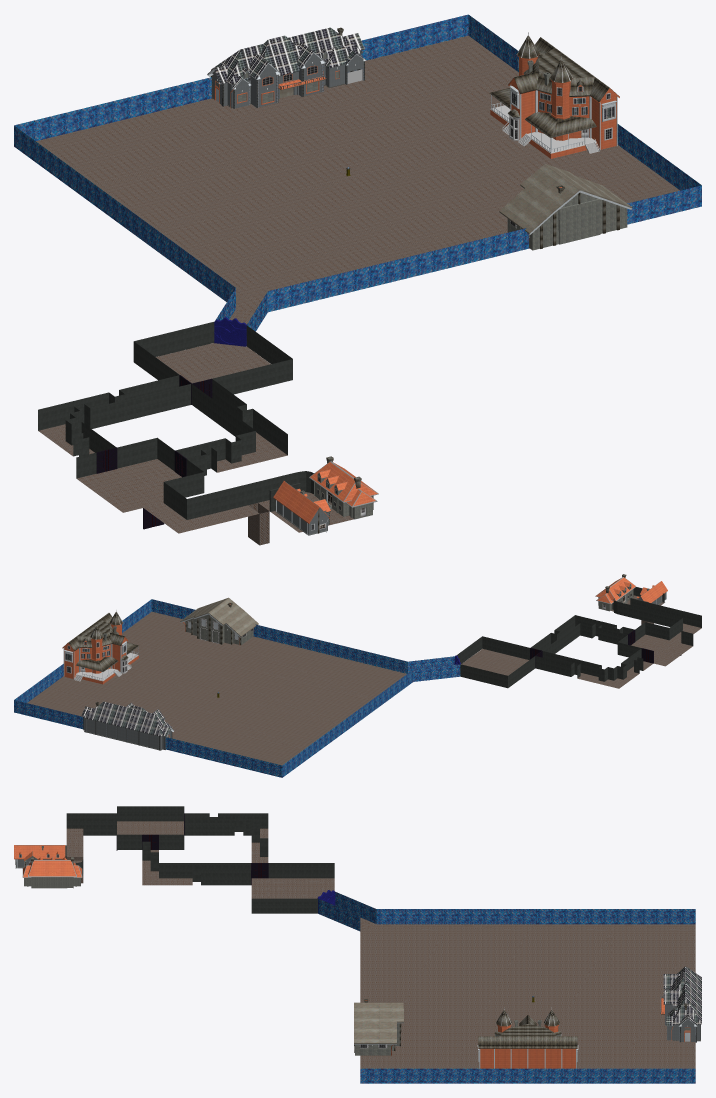
File: locationUnityAndrey.fbx
The picture shows the model from 3 angles, top to bottom: view 1: azimuth 30°, elevation 25°; view 2: azimuth 150°, elevation 25°; view 3: azimuth 270°, elevation 25°; orthographic projection. The views are drawn at different scales.
Parts seen in each view (by area): view 1: Plane, Plane.002, Plane.001, House, House4, House3, House1, House5, Plane.003; view 2: Plane, Plane.002, Plane.001, House, House4, House3, House1, House5; view 3: Plane, Plane.002, Plane.001, House, House4, House3, House1, House5.
Part boxes in pixels (<box>): Plane: <box>36,35,679,545</box>; Plane.002: <box>14,14,701,331</box>; Plane.001: <box>38,322,314,519</box>; House: <box>489,32,619,158</box>; House4: <box>207,27,365,108</box>; House3: <box>499,164,632,250</box>; House1: <box>309,456,378,519</box>; House5: <box>273,481,330,535</box>; Plane.003: <box>214,317,246,346</box>; Plane: <box>27,595,701,765</box>; Plane.002: <box>14,599,460,777</box>; Plane.001: <box>456,598,701,688</box>; House: <box>62,610,139,684</box>; House4: <box>81,701,174,750</box>; House3: <box>180,597,258,645</box>; House1: <box>595,574,636,611</box>; House5: <box>637,581,667,604</box>; Plane: <box>66,821,695,1068</box>; Plane.002: <box>318,892,695,1083</box>; Plane.001: <box>65,806,334,913</box>; House: <box>477,1007,578,1068</box>; House4: <box>660,966,701,1042</box>; House3: <box>354,999,403,1055</box>; House1: <box>22,857,82,888</box>; House5: <box>14,845,65,868</box>.
Size of the model in its own units: 36879 by 5559 by 40858.
